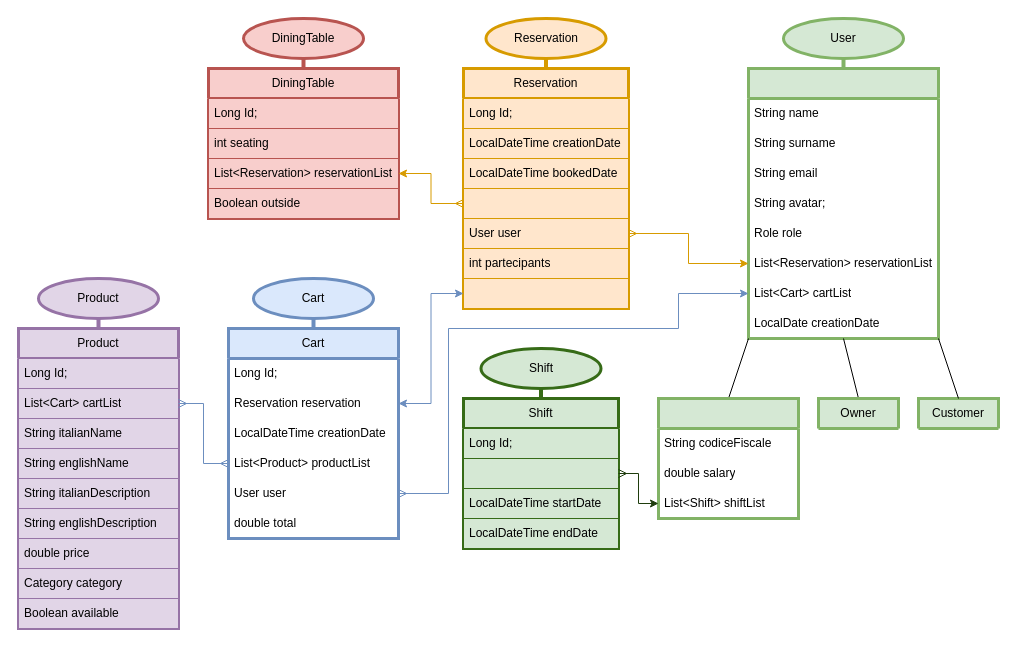
This 1017x647 diagram has some shape labels left out. Here are the shapes that lost their labels. From the top down, the box of each, then its label:
(462, 188, 628, 218): DiningTable diningTable
(746, 66, 940, 340): User ABSTRACT
(462, 278, 628, 308): Cart cart
(462, 458, 618, 488): Employee employee
(656, 396, 800, 520): Employee
